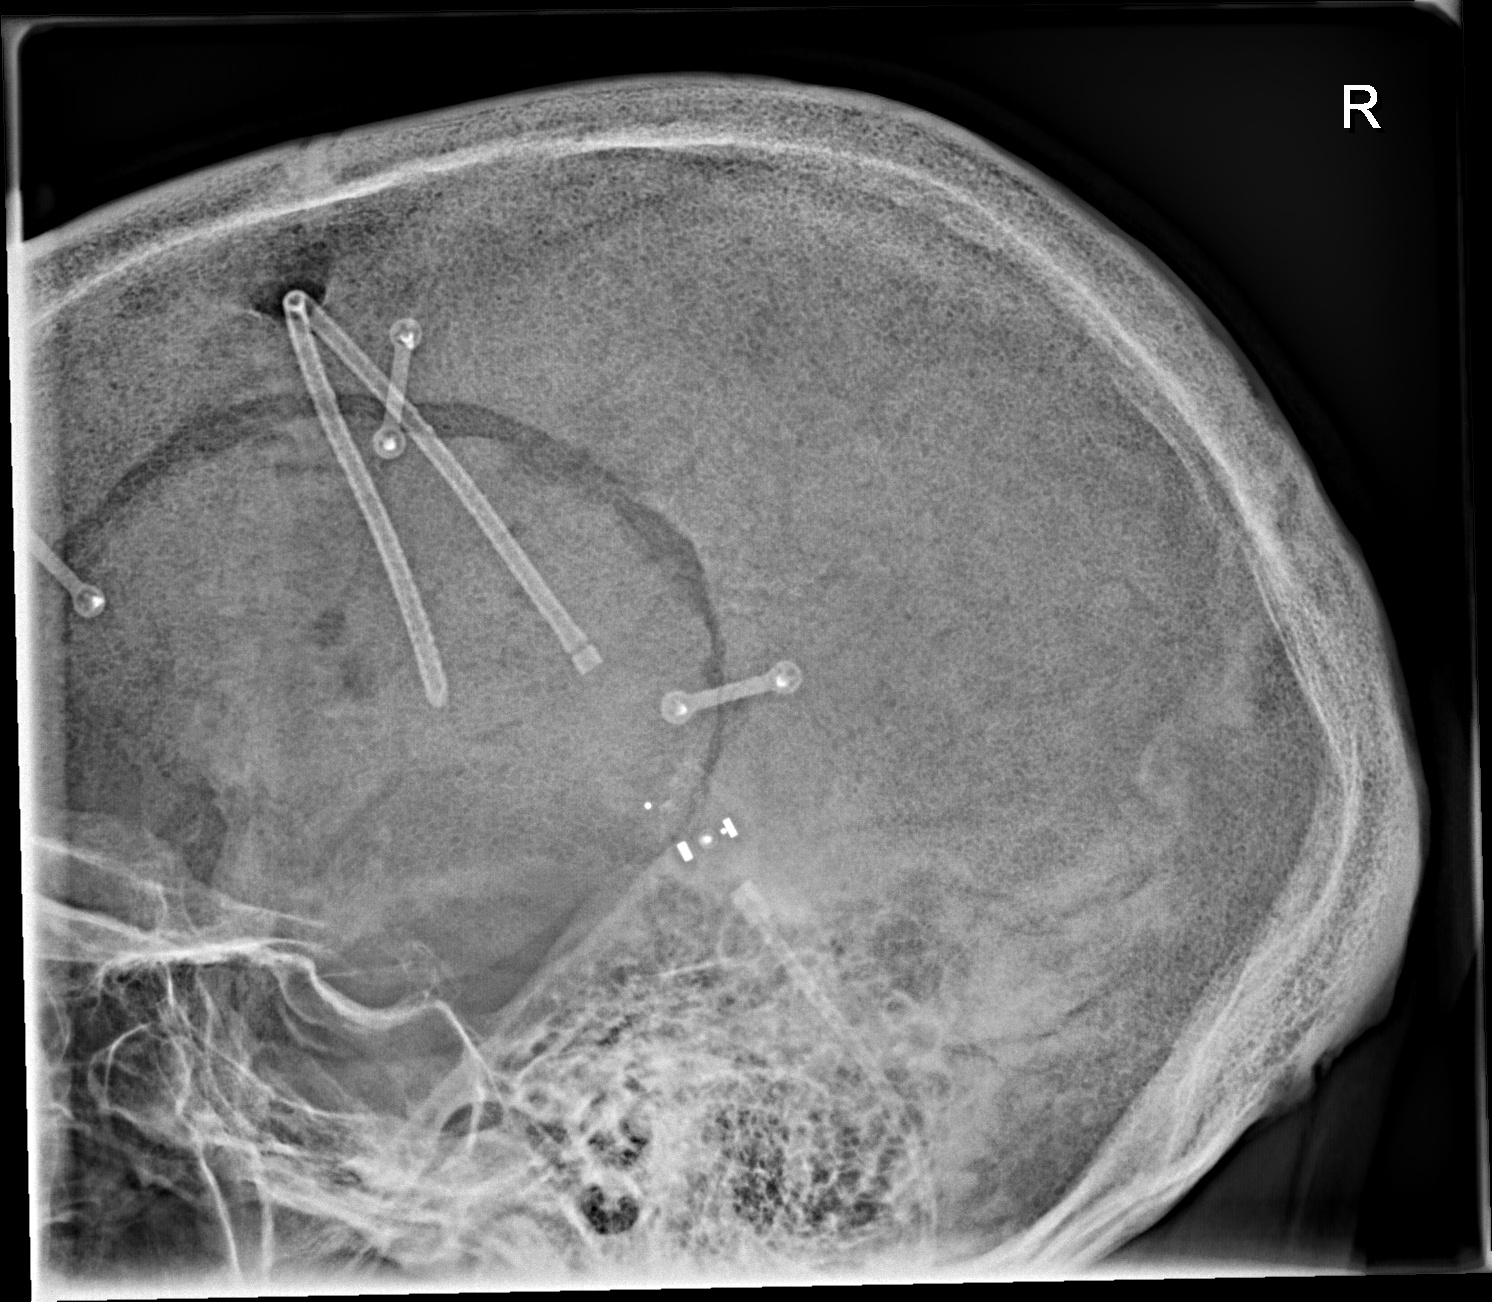Codman Certas: (629, 784, 762, 891)
